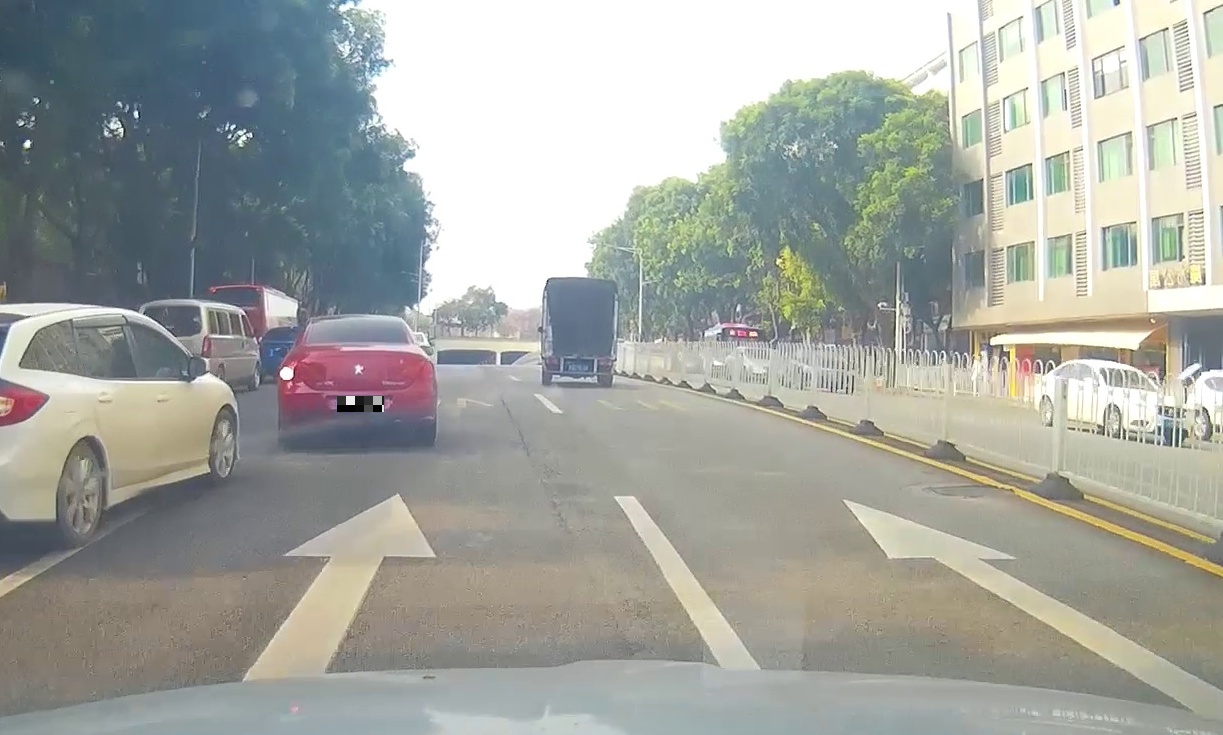L_light: (278, 365, 297, 382), (545, 358, 560, 365)
R_light: (420, 361, 437, 378), (597, 360, 613, 367)
T_light: (348, 320, 369, 324), (577, 280, 593, 283)
day-left: (277, 313, 439, 445)
day-no: (541, 276, 619, 386)
plate_1: (337, 396, 384, 412)
